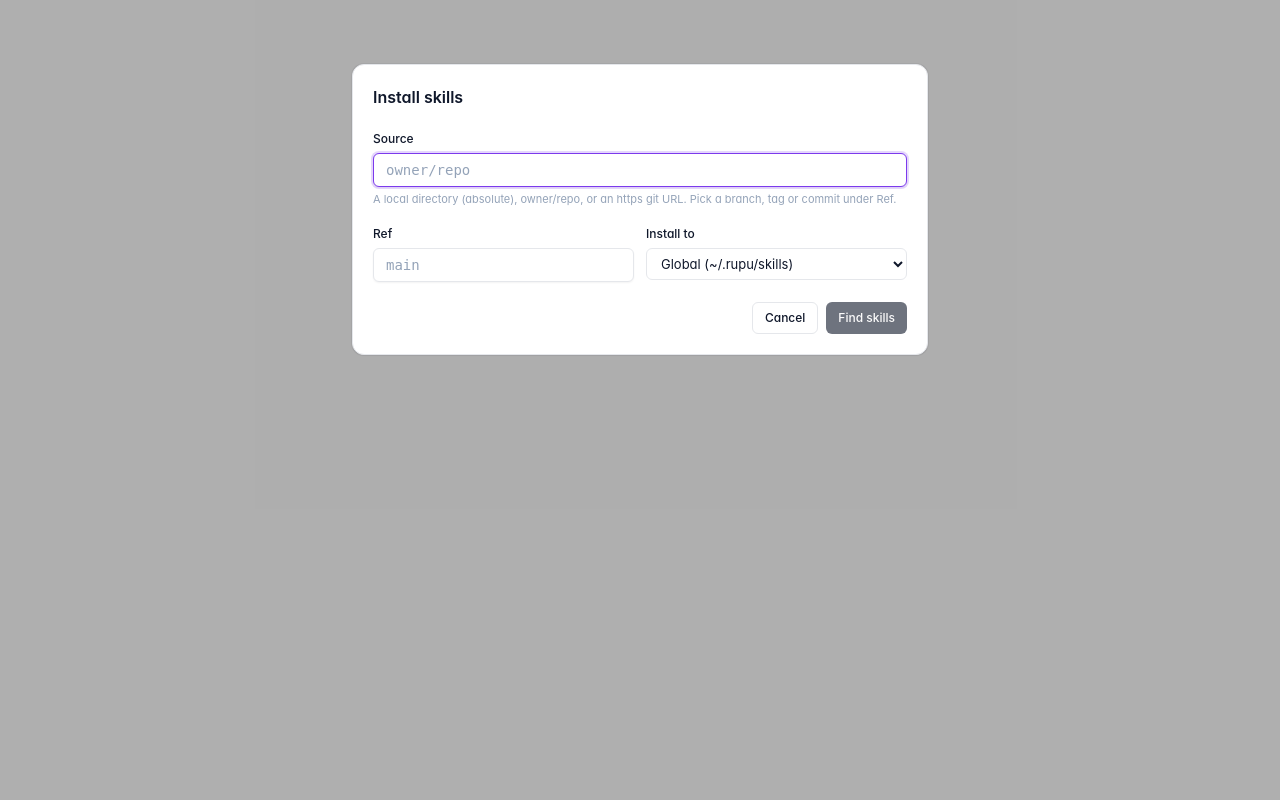
Test: InstallSkillsDialog › previews the source with a dry run and ticks the new skills
In the field labelled "Source": [640, 170] box [373,153,907,187], type "example/skills"
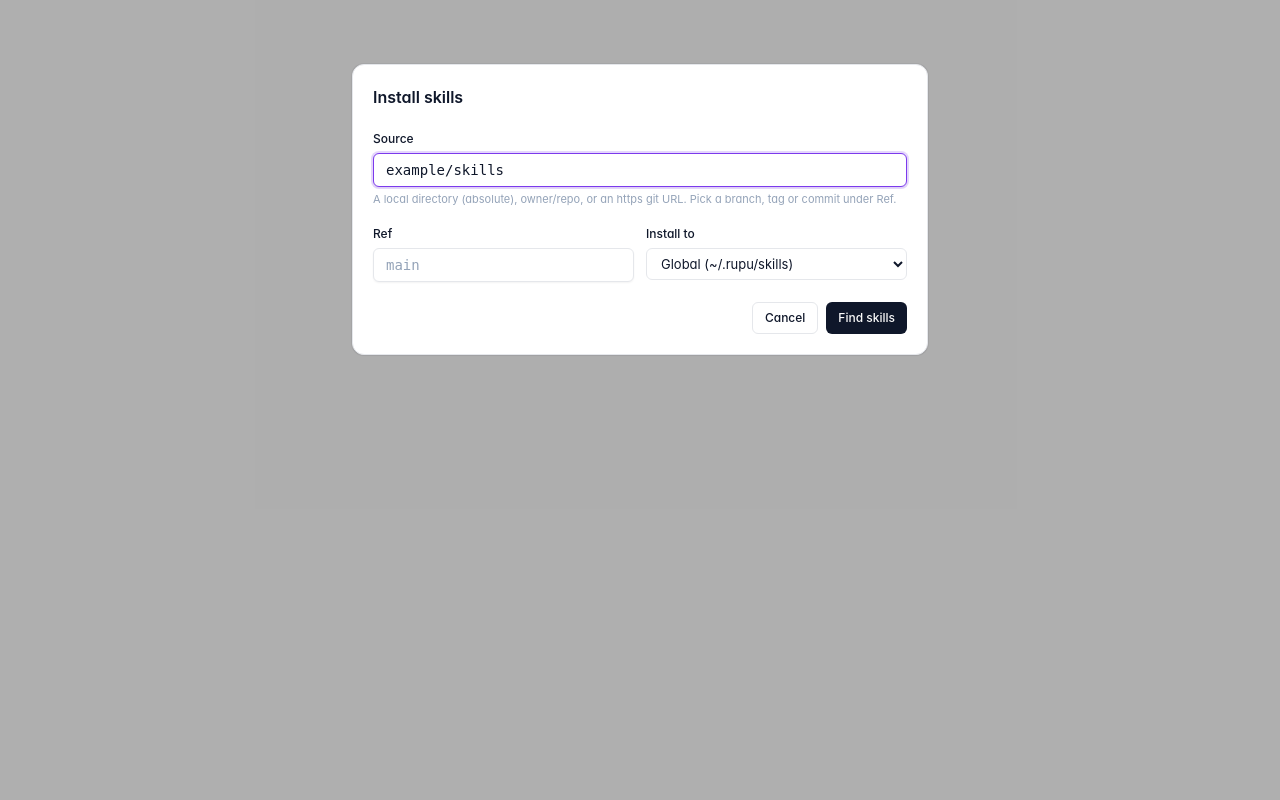
Click the button "Find skills": [867, 318] box [826,302,907,334]
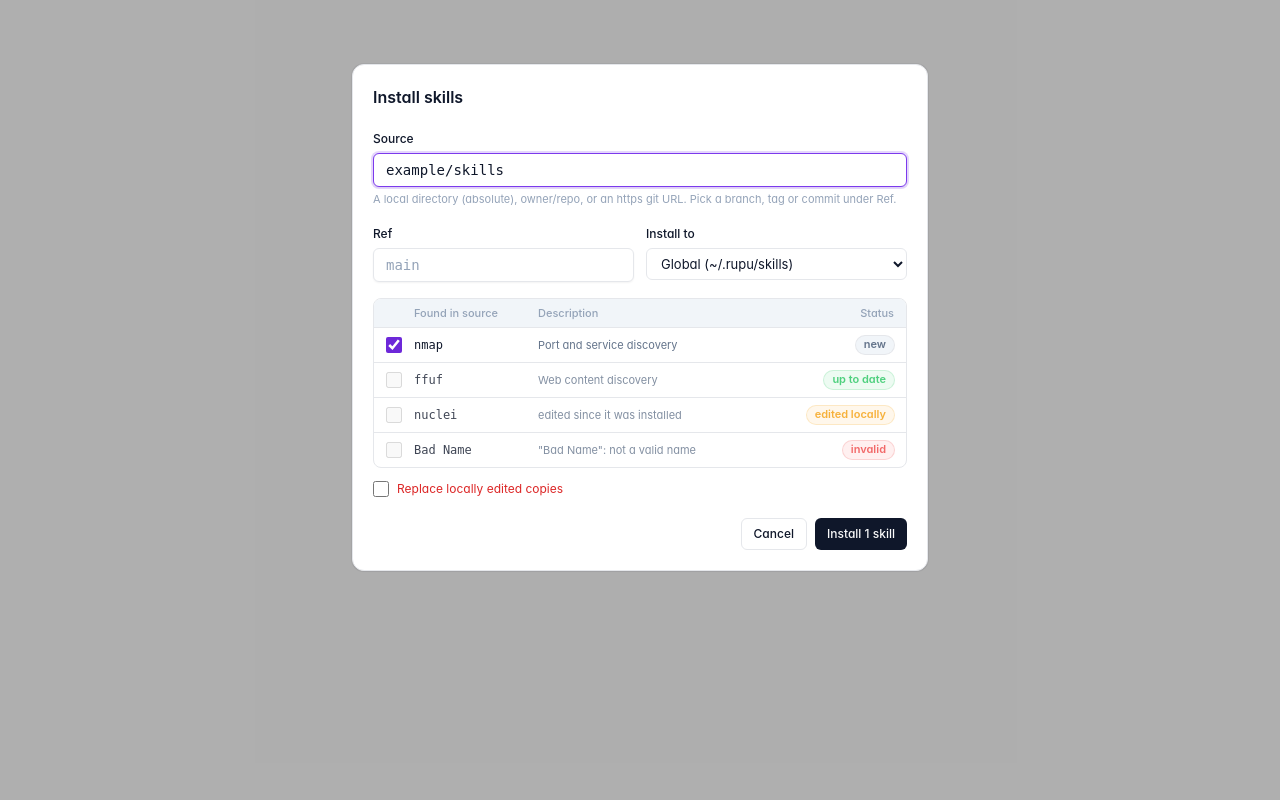
Result: the checkbox labelled "nmap" is checked at [386,337,402,353]
Result: the checkbox labelled "ffuf" is disabled at [386,372,402,388]
Result: the checkbox labelled "nuclei" is disabled at [386,407,402,423]
